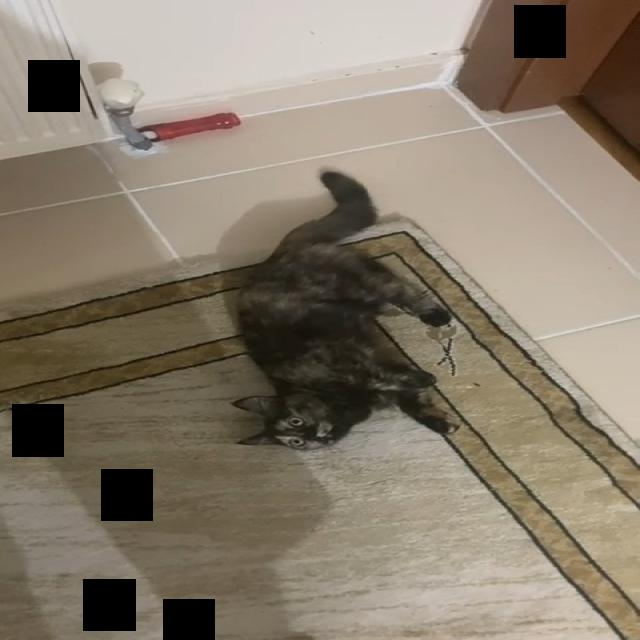authorized: (229, 168, 460, 450)
